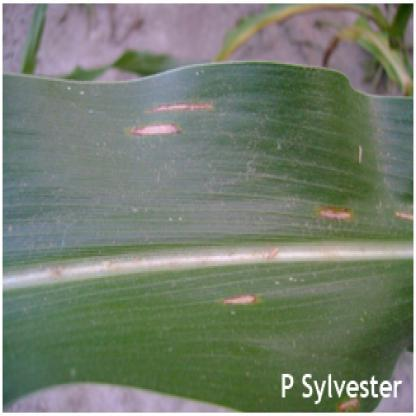Corn Gray leaf spot: (11, 58, 412, 366)
